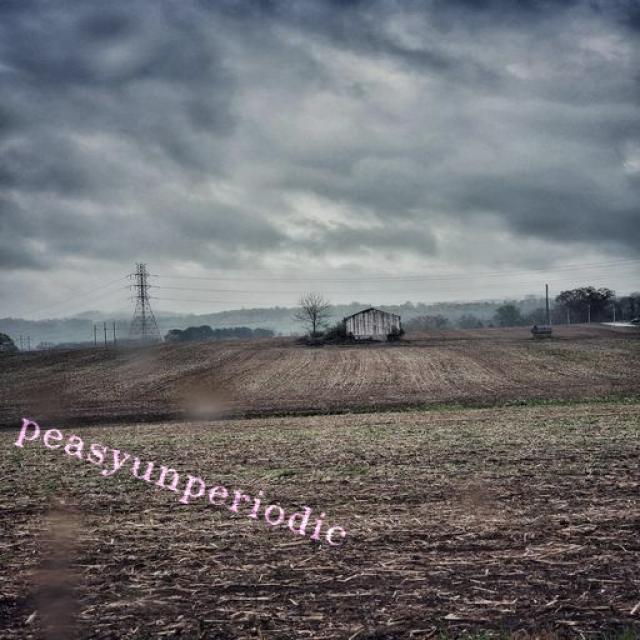watermark: (4, 405, 371, 555)
